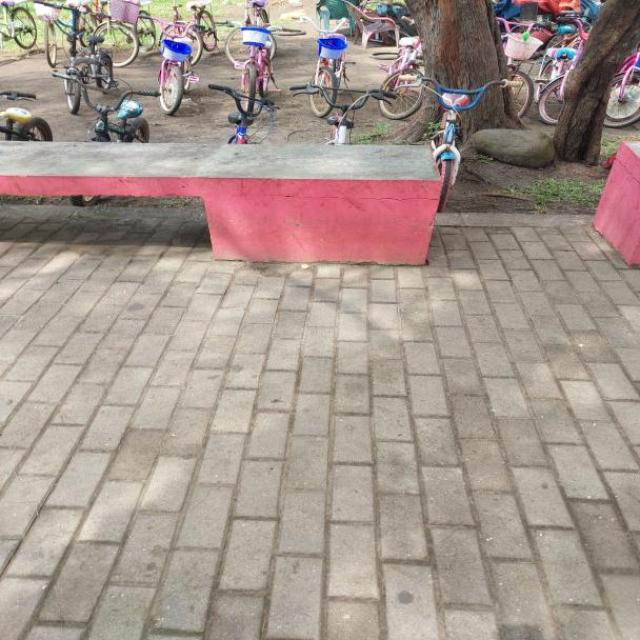bicycle ahead at: (408, 51, 520, 187), (41, 0, 133, 107), (141, 15, 210, 116), (222, 16, 293, 96), (308, 18, 352, 127)
